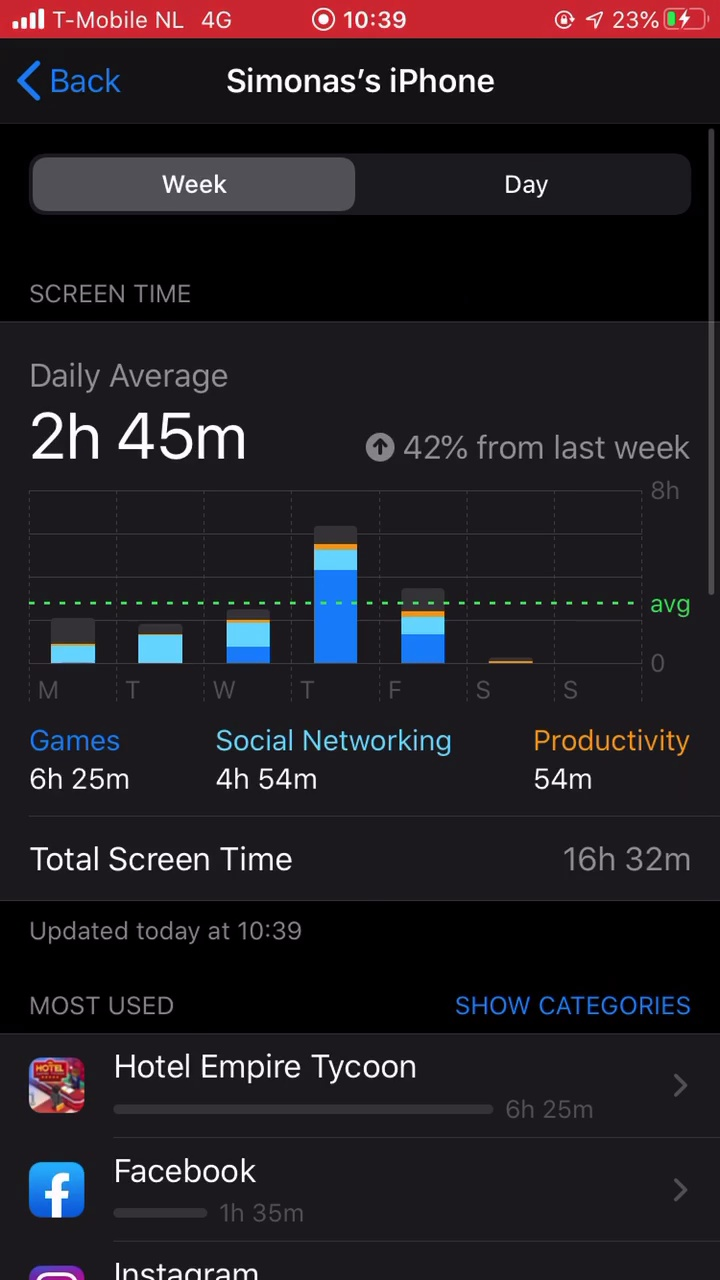use_over: (12, 711, 707, 892)
